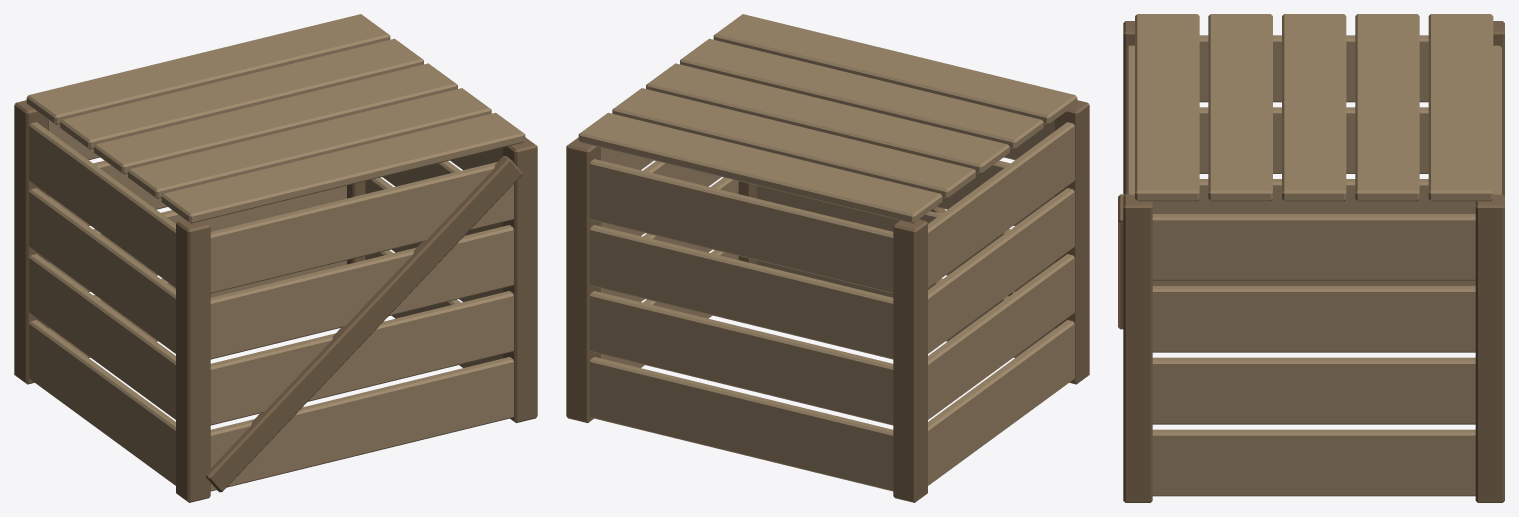
Rendered from crate.glb.
3 renders of one model, left to right at view 1: azimuth 30°, elevation 25°; view 2: azimuth 150°, elevation 25°; view 3: azimuth 270°, elevation 25°, orthographic. The views are drawn at different scales.
Parts seen in each view (by area): view 1: Cube.012, Cube, Cube.004, Cube.008, Cube.021, Cube.025, Cube.022, Cube.023, Cube.024, Cube.020, Cube.016, Cube.006 (+12 smaller); view 2: Cube.005, Cube.009, Cube.013, Cube.001, Cube.025, Cube.021, Cube.024, Cube.023, Cube.022, Cube.017, Cube.006, Cube.002 (+11 smaller); view 3: Cube.007, Cube.003, Cube.011, Cube.015, Cube.025, Cube.021, Cube.022, Cube.024, Cube.023, Cube.019, Cube.018, Cube.006 (+8 smaller).
Part boxes in pixels (x1,y1,x2,y2): Cube.012: (210,161,513,293); Cube: (210,357,513,491); Cube.004: (210,291,513,425); Cube.008: (210,225,513,359); Cube.021: (161,112,525,223); Cube.025: (26,14,390,124); Cube.022: (128,88,491,198); Cube.023: (94,63,457,174); Cube.024: (60,38,423,149); Cube.020: (206,156,522,492); Cube.016: (176,219,210,502); Cube.006: (29,254,175,419); Cube.005: (590,291,893,425); Cube.009: (590,225,893,359); Cube.013: (590,159,893,293); Cube.001: (590,357,893,491); Cube.025: (578,112,942,223); Cube.021: (713,14,1077,124); Cube.024: (612,88,975,198); Cube.023: (646,63,1009,174); Cube.022: (680,38,1043,149); Cube.017: (893,219,927,502); Cube.006: (928,254,1074,419); Cube.002: (928,320,1074,485); Cube.007: (1152,357,1475,424); Cube.003: (1152,429,1475,496); Cube.011: (1152,286,1475,352); Cube.015: (1152,214,1475,280); Cube.025: (1428,14,1493,201); Cube.021: (1135,14,1199,201); Cube.022: (1208,14,1272,201); Cube.024: (1355,14,1419,201); Cube.023: (1282,14,1346,201); Cube.019: (1475,194,1504,502); Cube.018: (1123,194,1152,502); Cube.006: (1152,179,1475,213).
Size of the model in its own units: 0.75 by 0.58 by 0.659.
